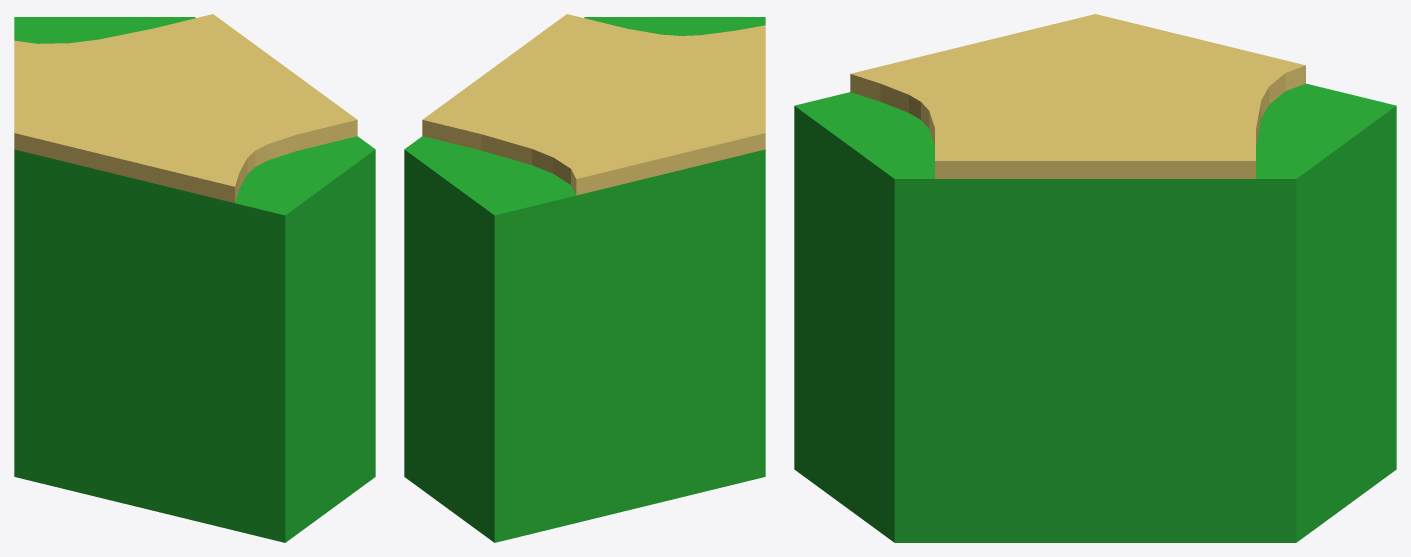
The model's file is module-corner_land_path_fork_002.glb.
3 views of the same model, side by side, from view 1: azimuth 30°, elevation 25°; view 2: azimuth 150°, elevation 25°; view 3: azimuth 270°, elevation 25° (orthographic). The views are drawn at different scales.
Parts seen in each view (by area): view 1: module-corner_land_path_fork_002; view 2: module-corner_land_path_fork_002; view 3: module-corner_land_path_fork_002.
Boxes of the visible parts, <box> form: module-corner_land_path_fork_002: <box>14,14,375,542</box>; module-corner_land_path_fork_002: <box>404,14,765,542</box>; module-corner_land_path_fork_002: <box>794,14,1396,542</box>.
Size of the model in its own units: 0.433 by 0.525 by 0.75.
